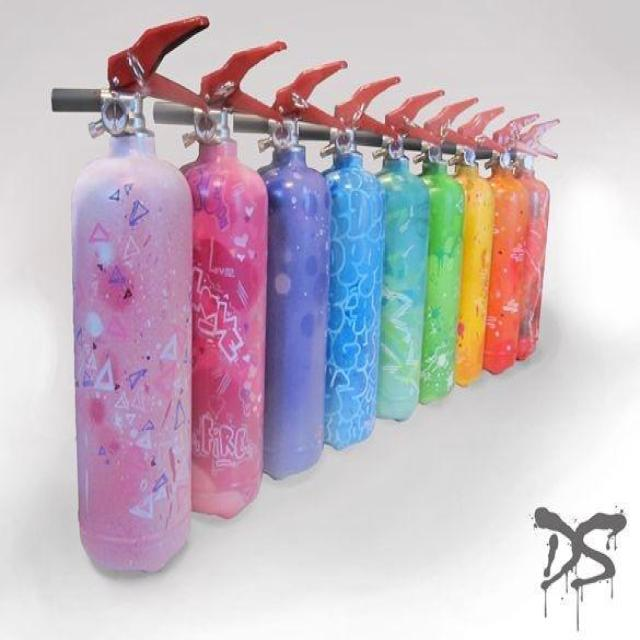fire_extinguisher: (47, 11, 213, 579), (147, 40, 294, 523), (229, 56, 353, 486), (303, 73, 405, 455), (348, 87, 452, 425), (390, 94, 482, 408), (419, 102, 510, 388), (461, 108, 541, 376), (487, 112, 563, 363)
